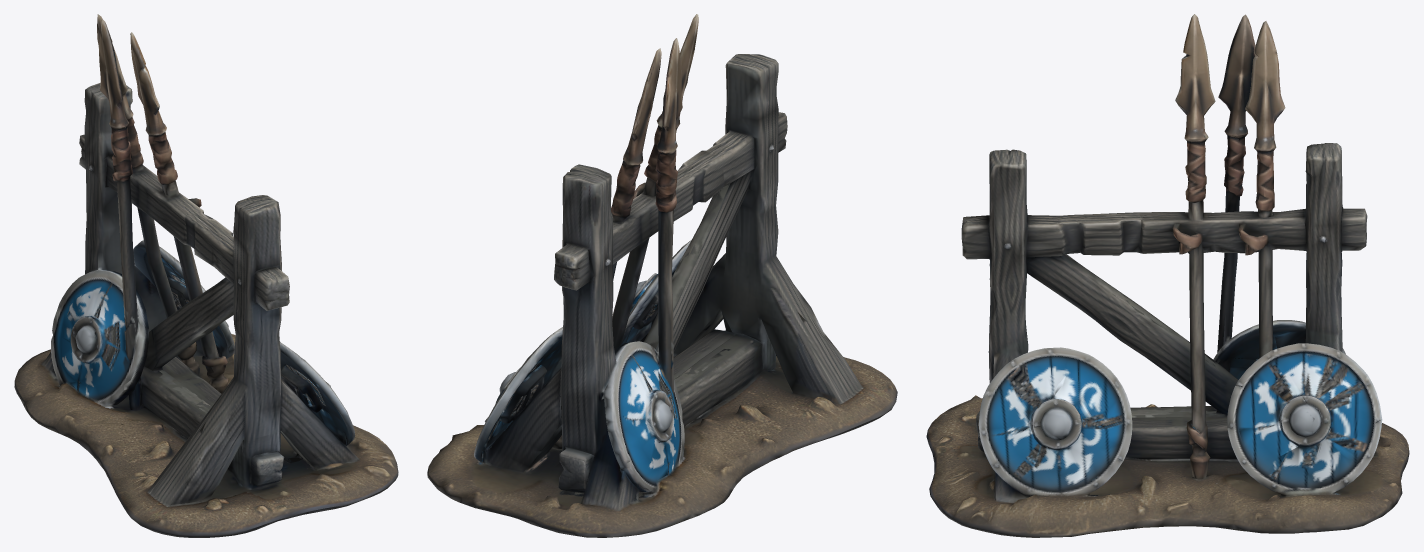
3 renders of one model, left to right at view 1: azimuth 30°, elevation 25°; view 2: azimuth 150°, elevation 25°; view 3: azimuth 270°, elevation 25°, orthographic. The views are drawn at different scales.
Visible parts, largest first — view 1: repaired; view 2: repaired; view 3: repaired.
Boxes of the visible parts, <box> form: repaired: <box>14,14,398,537</box>; repaired: <box>427,14,897,537</box>; repaired: <box>926,14,1409,537</box>.
Bounding box in the file's own units: 0.6753 × 0.991 × 0.9995.
1 material, 1 textured.
